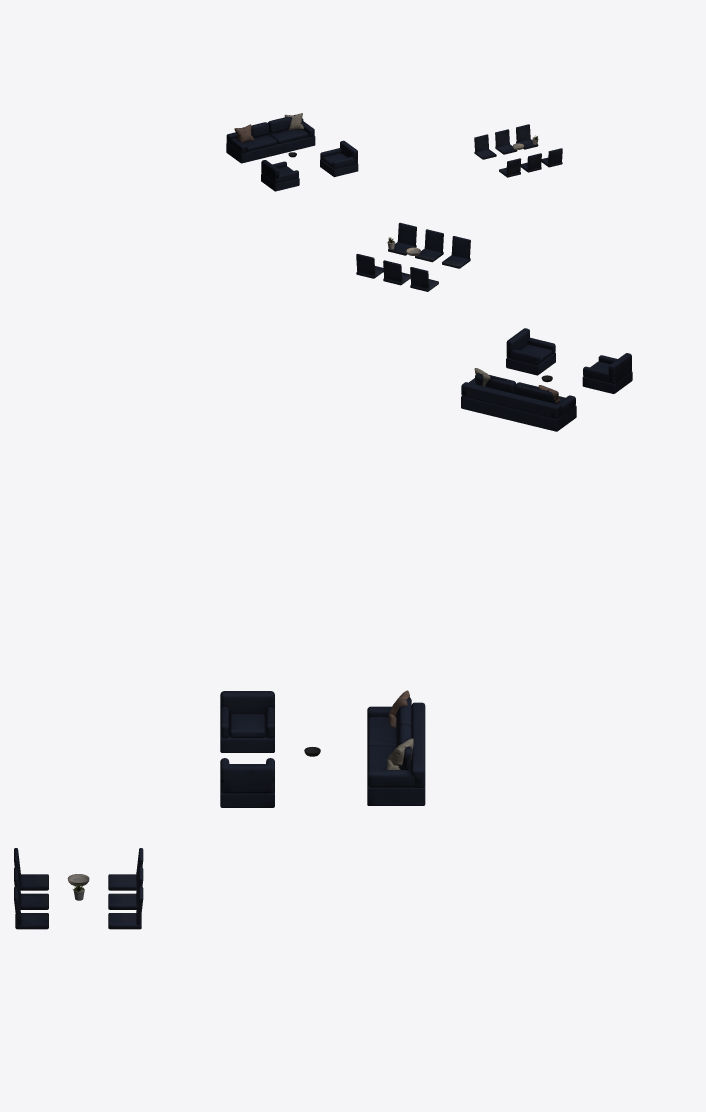
Rendered from decor-garden-light.glb.
3 views of the same model, one above another, from view 1: azimuth 30°, elevation 25°; view 2: azimuth 150°, elevation 25°; view 3: azimuth 270°, elevation 25° (orthographic). The views are drawn at different scales.
Visible parts, largest first — view 1: V|decor|ldk|wooden_bowl_01:a.085; view 2: V|decor|ldk|wooden_bowl_01:a.085; view 3: V|decor|ldk|wooden_bowl_01:a.085.
Boxes of the visible parts, bbox=[...] form: V|decor|ldk|wooden_bowl_01:a.085: bbox=[226, 114, 562, 191]; V|decor|ldk|wooden_bowl_01:a.085: bbox=[356, 222, 632, 431]; V|decor|ldk|wooden_bowl_01:a.085: bbox=[14, 691, 425, 929].
Size of the model in its own units: 17.26 by 1.14 by 9.93.
8 materials, 3 textured.
